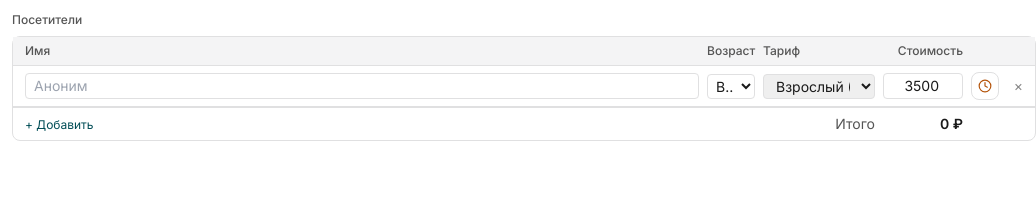
RecordVisitsTable — drafts isolated from visits prop › draft row renders alongside saved rows
The image size is (1036, 199).
Expected: the element with test id "visit-row-v1" is shown, [13,66,1035,107]
Click the button with test id "btn-add-visitor" at (59, 125), box [25,117,94,133]
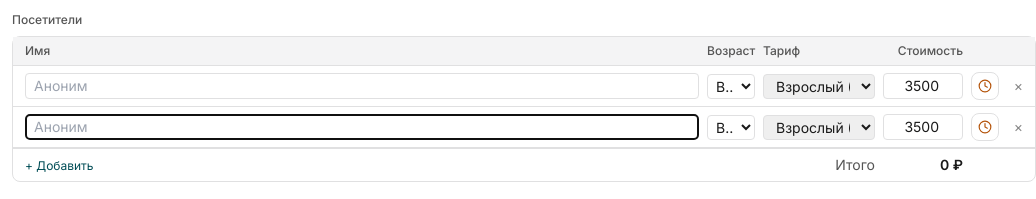
Expected: the element with test id "visit-row-v1" is shown, [13,66,1035,107]
Result: the element with test id "visit-row-new" is shown at [13,107,1035,148]
